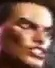kevin: (2, 0, 54, 64)
